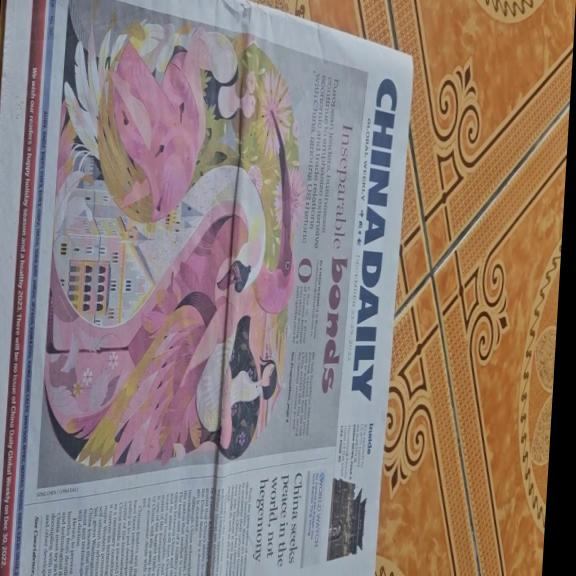Kertas: (0, 3, 418, 569)
